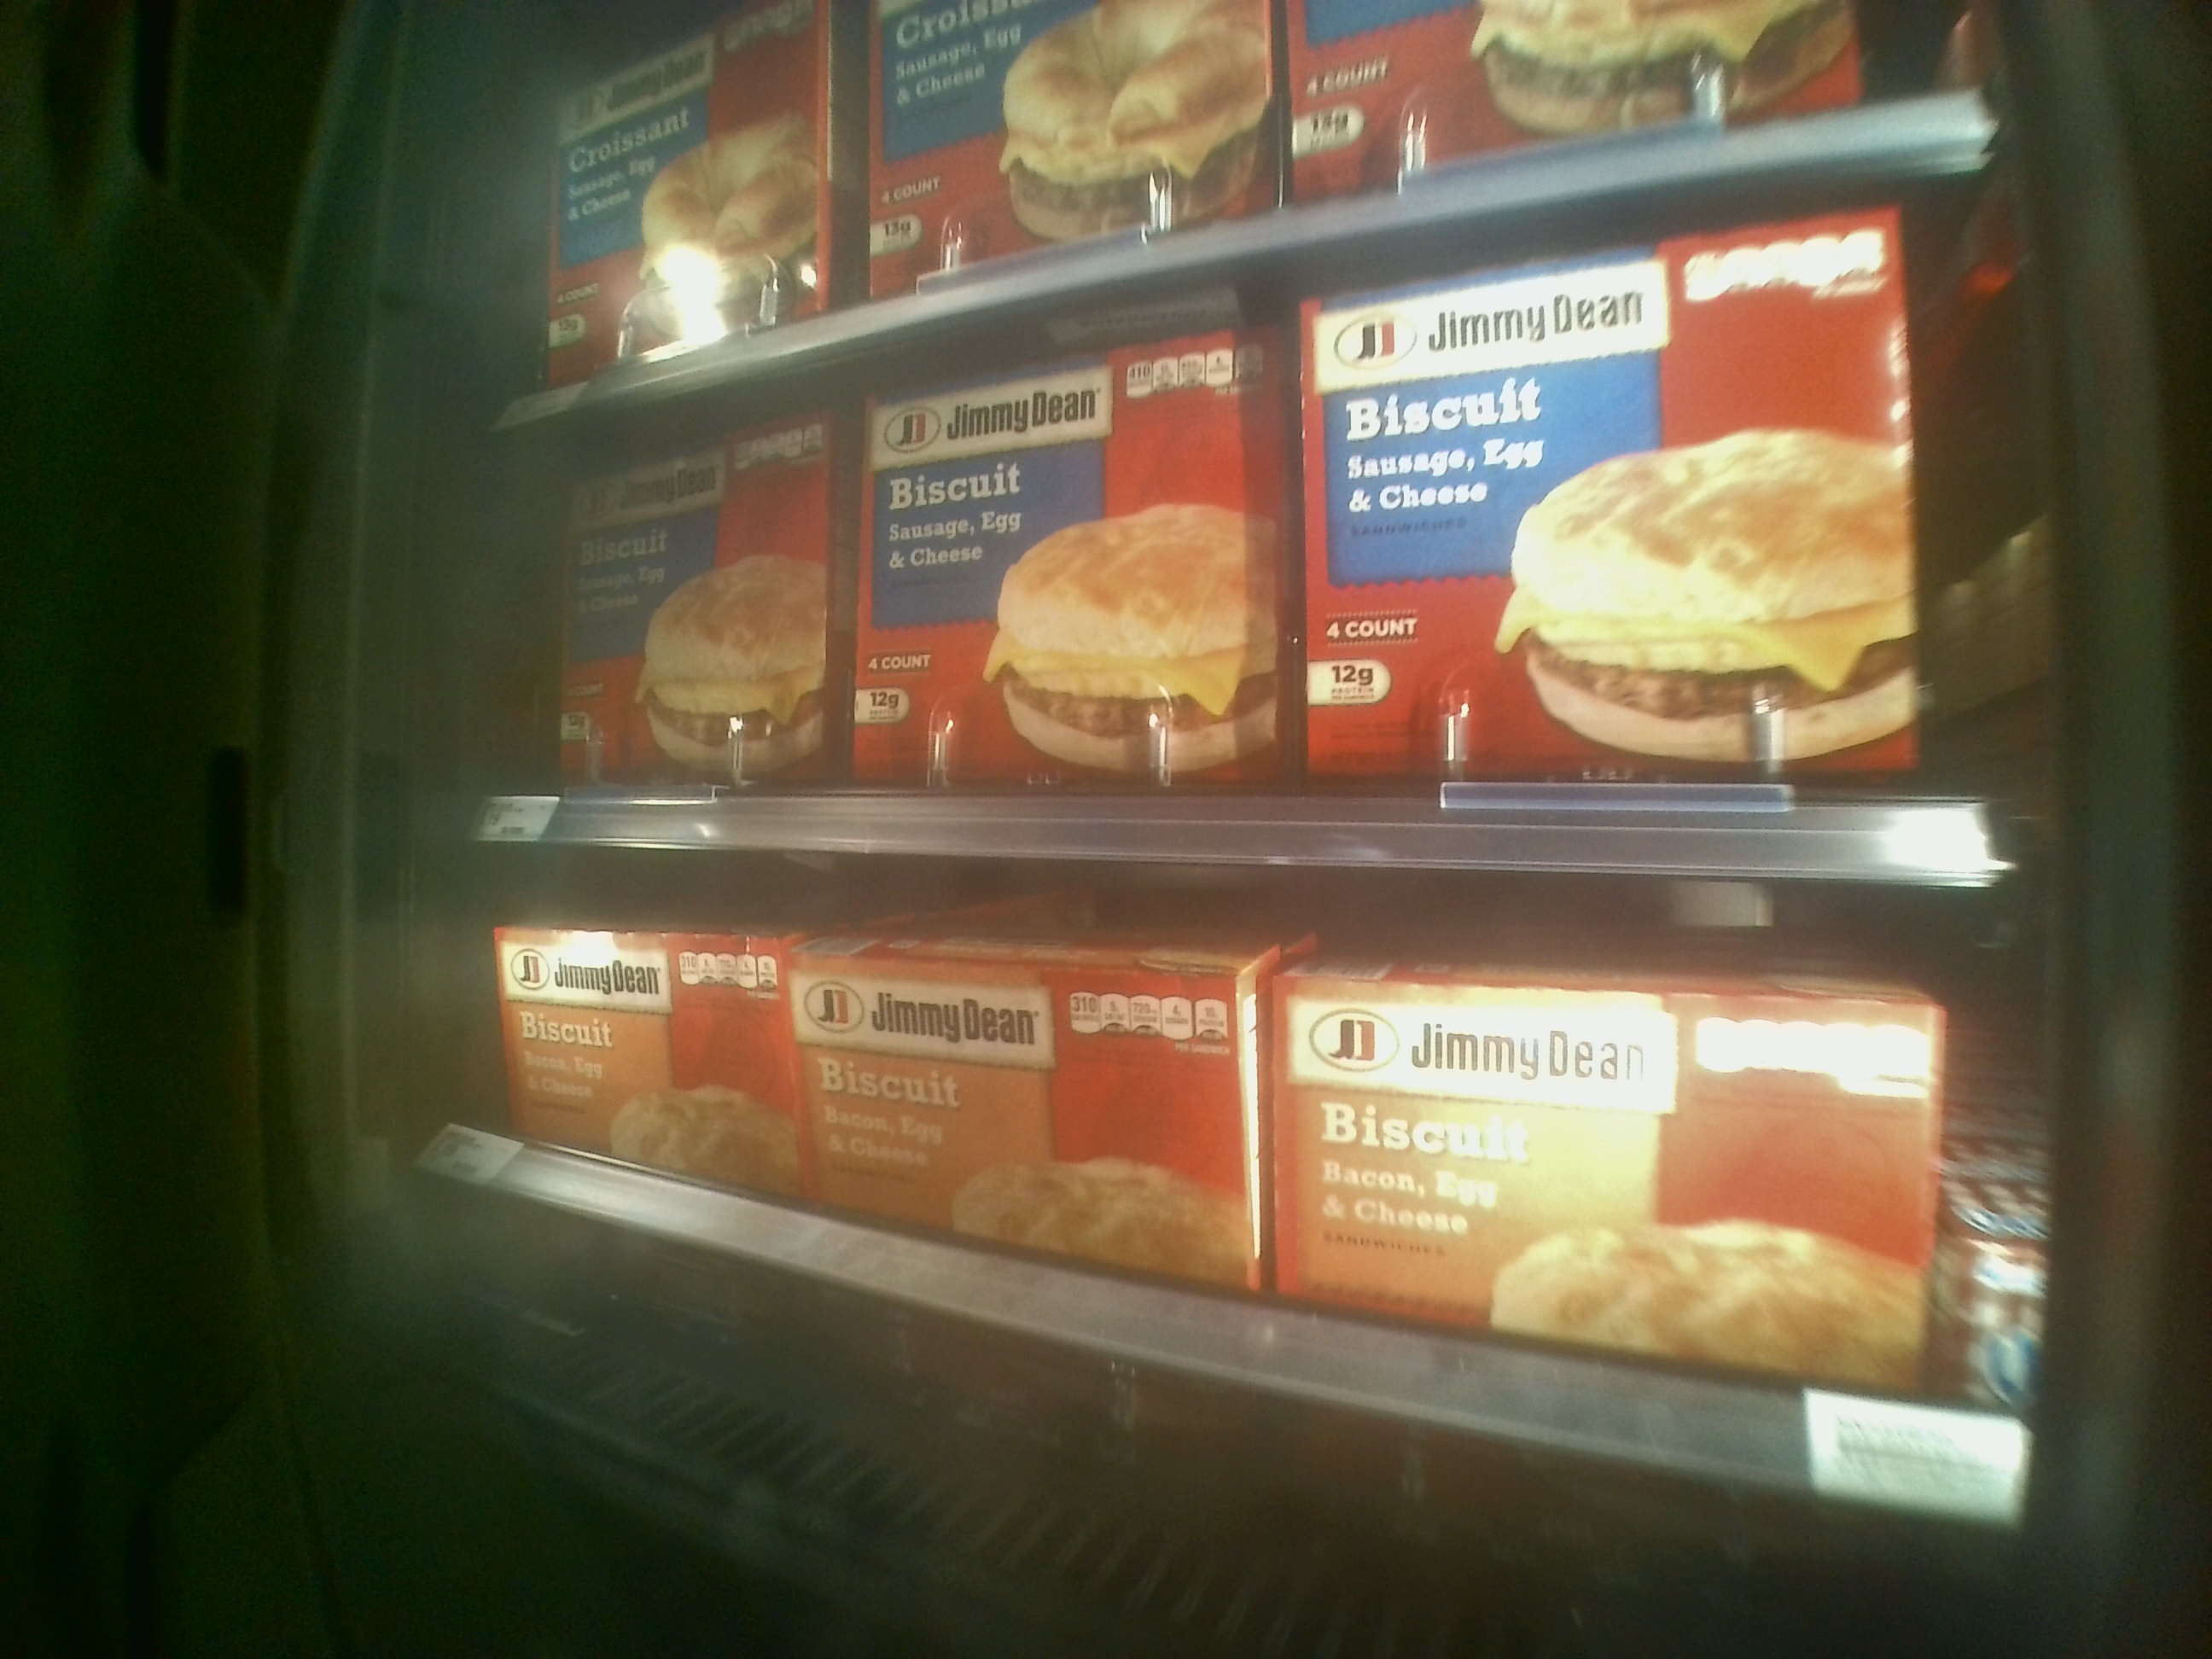shelf: (491, 157, 2003, 897), (469, 836, 2020, 1535)
